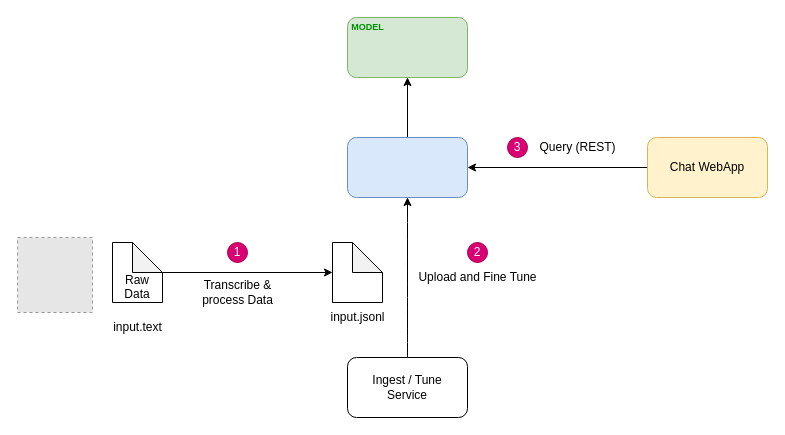
The diagram is 785 pixels wide and 435 high, and some of its shapes have lost their labels. Grey dashed boxes stand in for pictures. The box of each missing label's shape, as (x1, y1, x2, y2) in pixels:
AnyScale EndPoints: (346, 136, 468, 198)
LLM: (346, 16, 468, 78)
Q&A: (332, 242, 382, 302)
